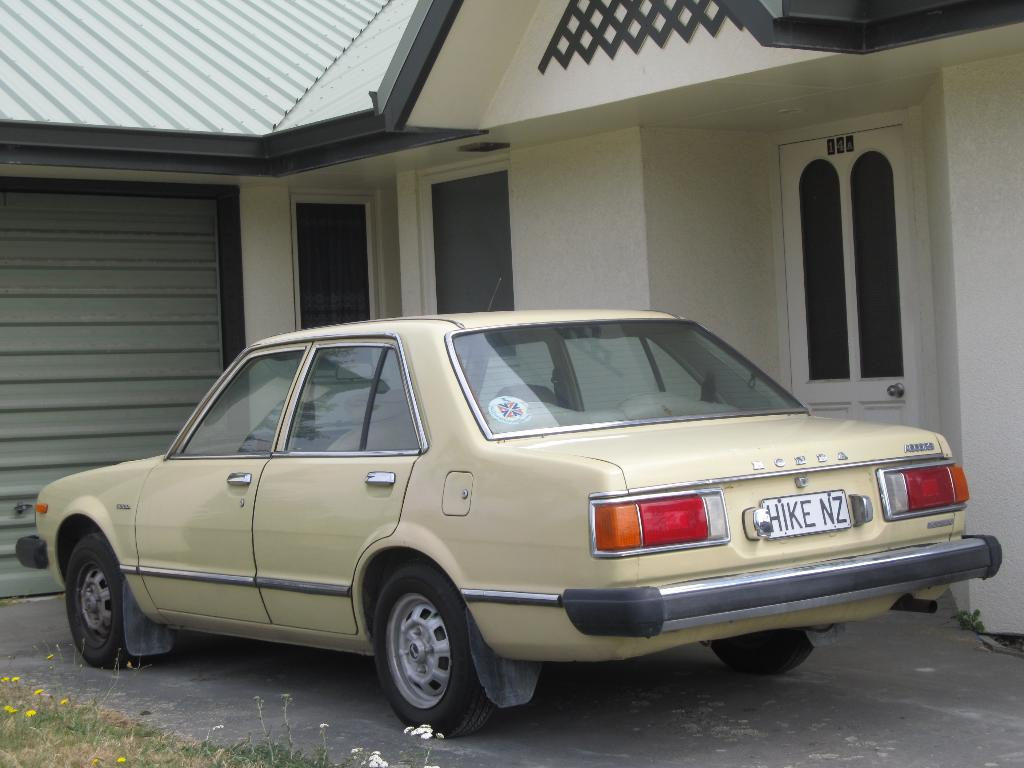cars: (17, 302, 1005, 737)
